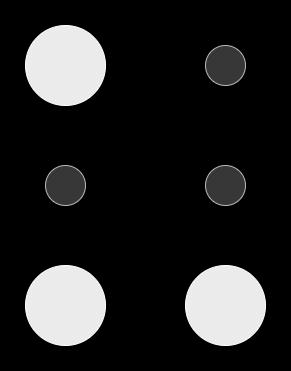U: (19, 18, 273, 352)
